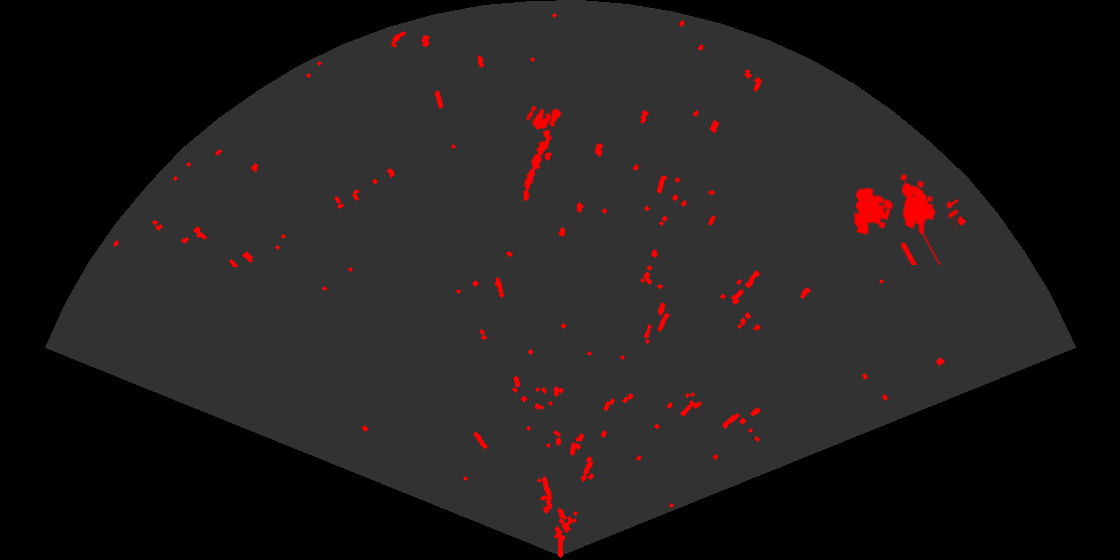ball: (524, 104, 553, 132)
cage: (852, 172, 958, 265)
chain: (522, 107, 563, 203)
